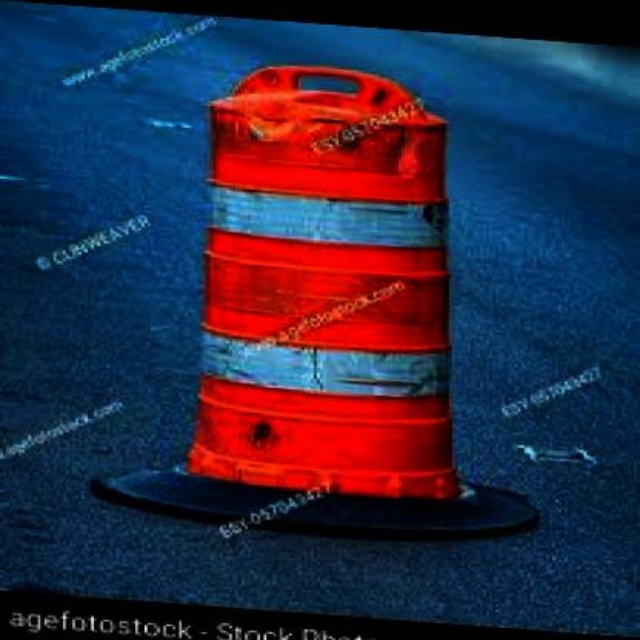obstacle: (178, 49, 480, 502)
